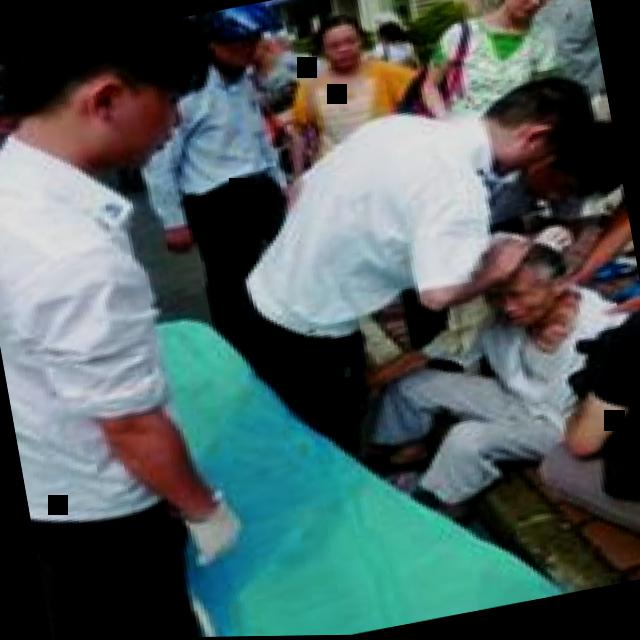Fall-Detected: (305, 174, 640, 596)
